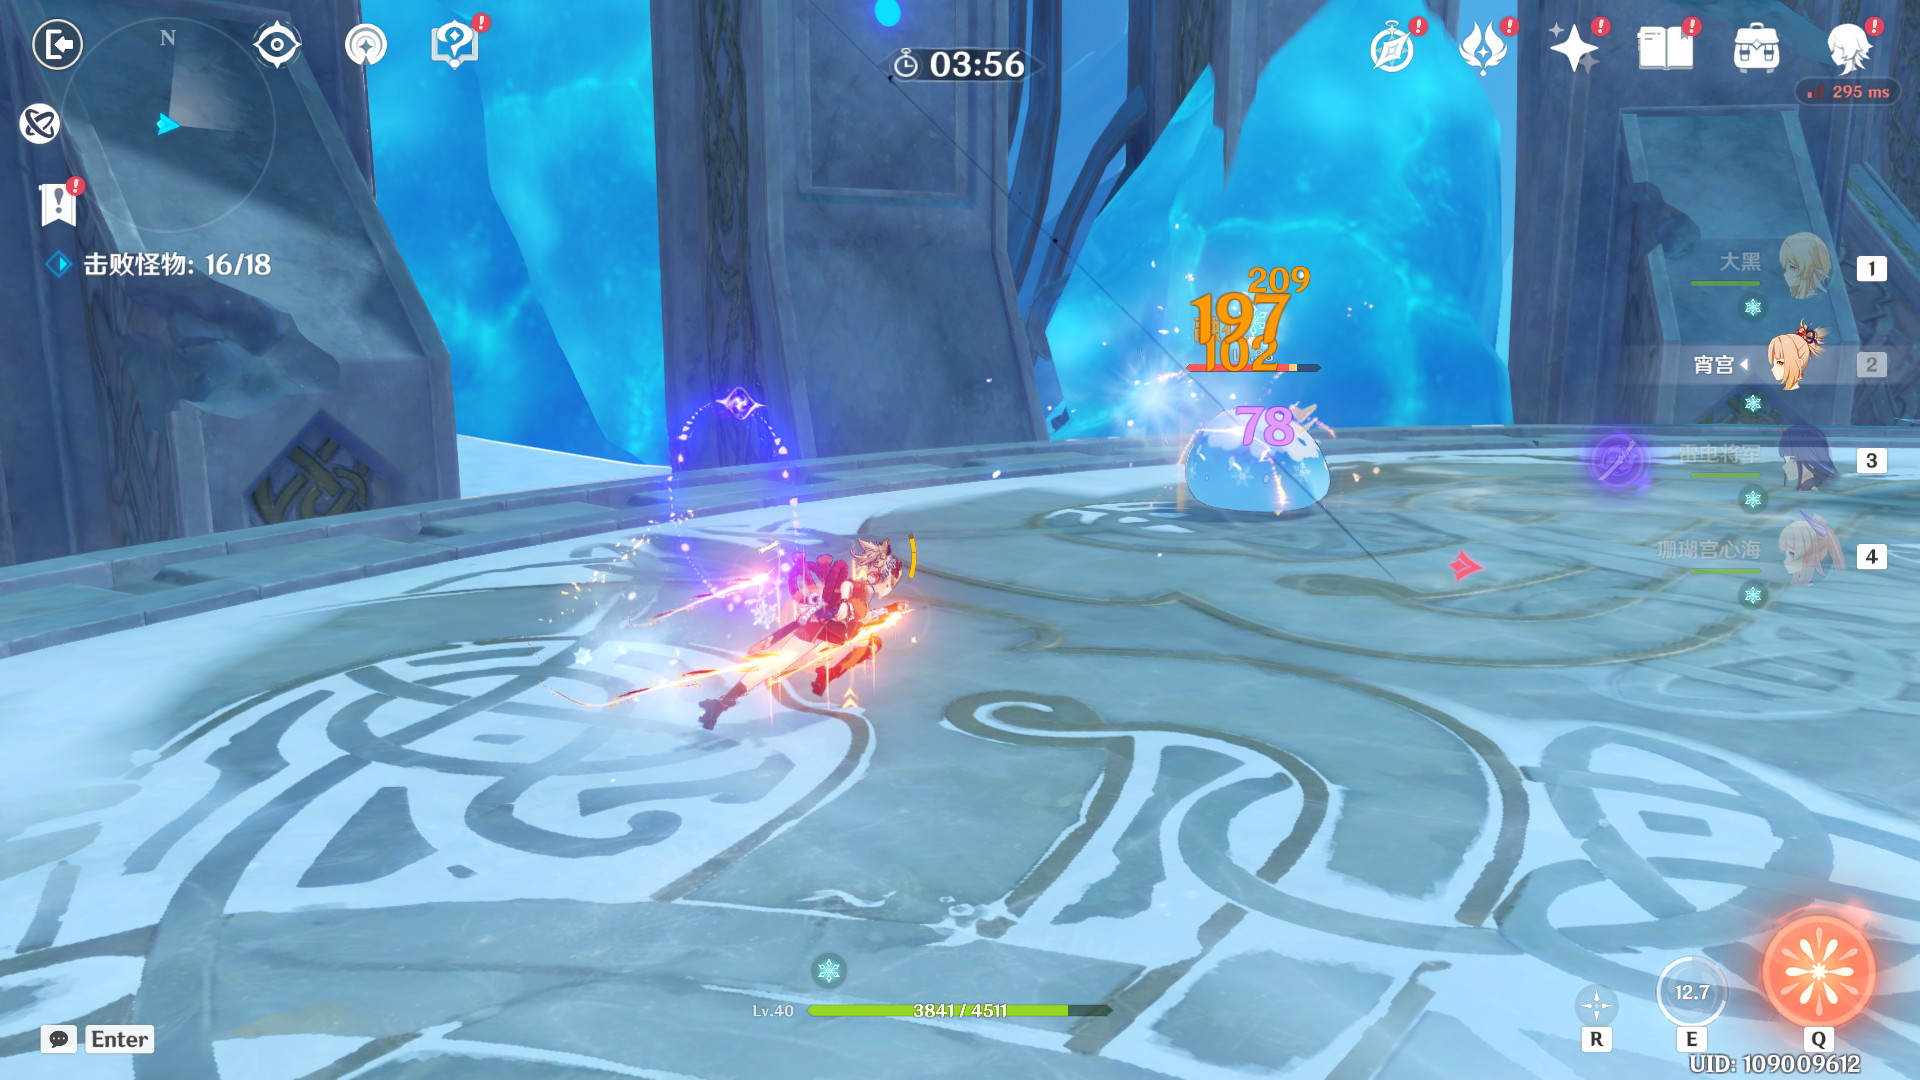character: (645, 506, 961, 760)
slime: (1164, 394, 1358, 530)
